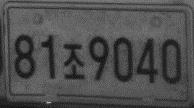0: (113, 36, 134, 82), (161, 38, 182, 84)
1: (40, 33, 57, 80)
4: (134, 37, 159, 84)
8: (13, 33, 36, 79)
9: (88, 36, 109, 81)
조: (61, 42, 87, 80)
